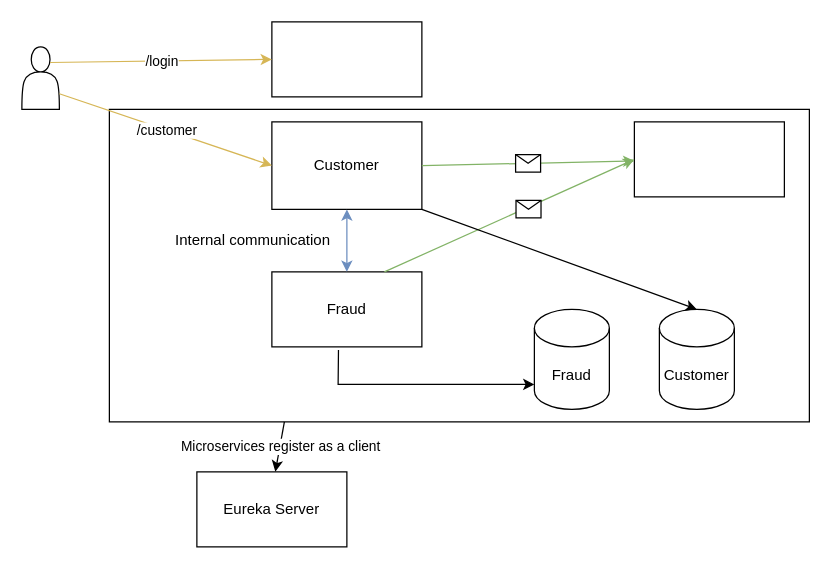
Some shapes in this 831 by 569 pixel diagram are drawn without their labels. The centre of each missing label's shape, as x and y in pixels:
"Authetication" belongs at pixel 346 59.
"Message Queue" belongs at pixel 708 159.
